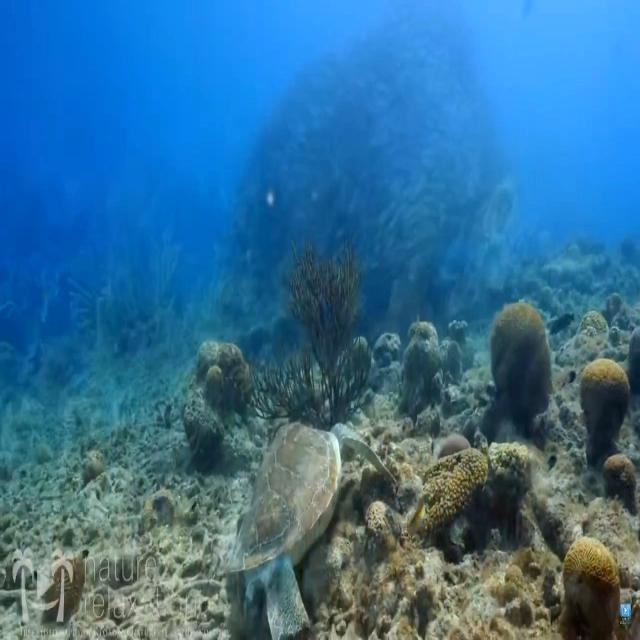Sea turtle: (218, 411, 399, 640)
